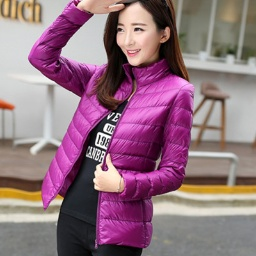face: (98, 1, 196, 88)
